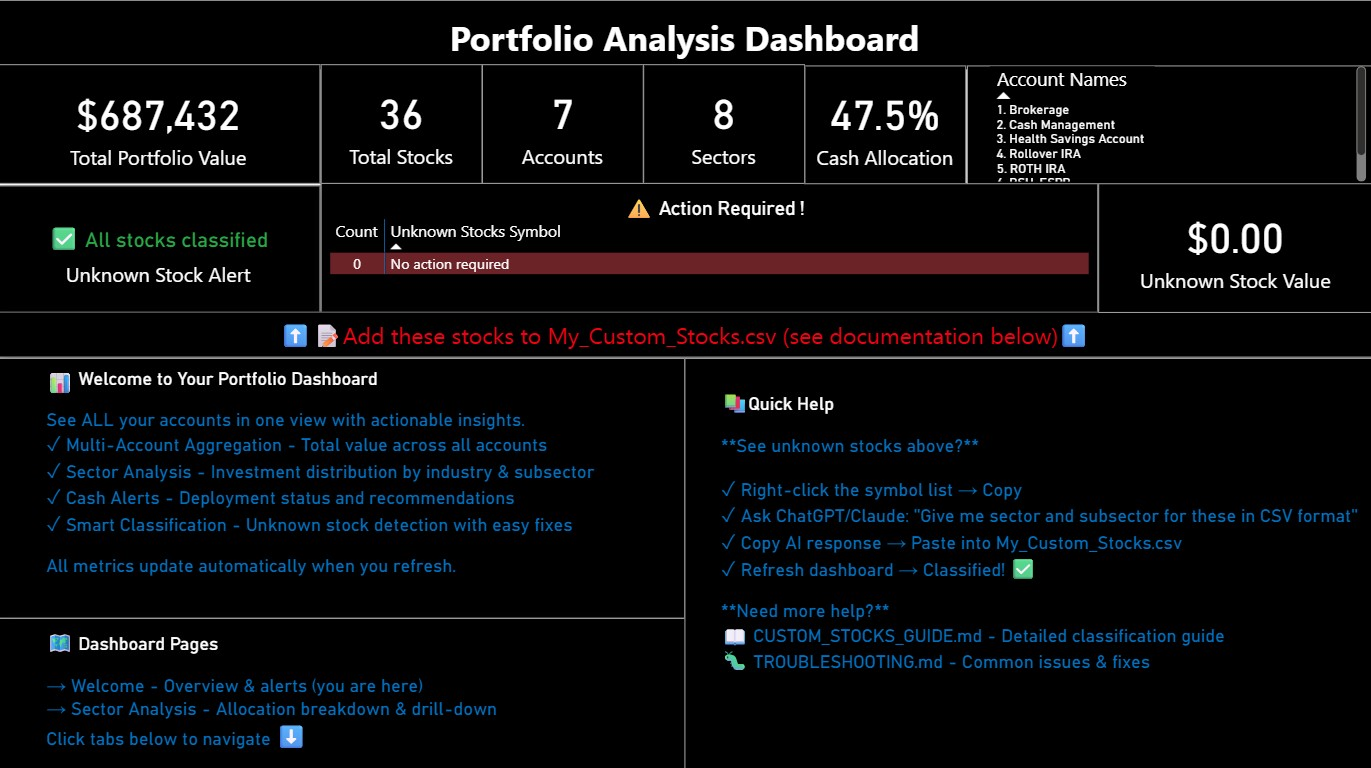

This screenshot's page, from the dashboard's own definition file:
{"tool":"powerbi","page":{"name":"Welcome","canvas":[1280,720],"ordinal":0},"visuals":[{"type":"textbox","box":[0,0,1280.5,68.5],"z":0},{"type":"card","fields":{"Values":["All_Measures_Tbl.Total_Portfolio_Value"]},"box":[0,62.2,300.7,111],"z":1000},{"type":"card","fields":{"Values":["All_Measures_Tbl.Unknown_Stocks_Alert"]},"box":[0,173.9,300.7,118.1],"z":2000},{"type":"tableEx","title":"⚠️ Action Required !","fields":{"Values":["All_Measures_Tbl.Unknown_Stocks_Count","All_Measures_Tbl.Unknown_Stocks_List"]},"box":[300.7,171.6,723.3,120.4],"z":3000},{"type":"textbox","box":[0,292,1279.8,42.5],"z":4000},{"type":"card","fields":{"Values":["All_Measures_Tbl.Number_Of_Stocks"]},"box":[300.7,62.2,150.3,111],"z":5000},{"type":"card","fields":{"Values":["All_Measures_Tbl.Number_Of_Accounts"]},"box":[451,61.8,150.3,111.5],"z":6000},{"type":"card","fields":{"Values":["All_Measures_Tbl.Number_Of_Sectors"]},"box":[601.3,61.8,150.3,111.5],"z":7000},{"type":"card","fields":{"Values":["All_Measures_Tbl.Cash_Percent"]},"box":[751.6,63,150.3,110.2],"z":8000},{"type":"card","fields":{"Values":["All_Measures_Tbl.Unknown_Stocks_Value"]},"box":[1024,171.6,255.8,120.4],"z":9000},{"type":"tableEx","title":"Account Names","fields":{"Values":["All_Measures_Tbl.Account_Names_Numbered"]},"box":[902,63,377.8,110.2],"z":10000},{"type":"textbox","box":[0,334.5,639.9,242.4],"z":11000},{"type":"textbox","box":[0,576.9,640.7,143.2],"z":12000},{"type":"textbox","box":[639.9,334.5,640.7,385.7],"z":13000}]}

Visuals, with their boxes in screenshot pixels (x1, y1, x2, y2), scaled from the page's 1280x720 canvas onto the 1371x768 screenshot:
textbox: select_region(0, 0, 1370, 73)
card - All_Measures_Tbl.Total_Portfolio_Value: select_region(0, 66, 322, 185)
card - All_Measures_Tbl.Unknown_Stocks_Alert: select_region(0, 185, 322, 311)
"⚠️ Action Required !" tableEx: select_region(322, 183, 1097, 311)
textbox: select_region(0, 311, 1370, 357)
card - All_Measures_Tbl.Number_Of_Stocks: select_region(322, 66, 483, 185)
card - All_Measures_Tbl.Number_Of_Accounts: select_region(483, 66, 644, 185)
card - All_Measures_Tbl.Number_Of_Sectors: select_region(644, 66, 805, 185)
card - All_Measures_Tbl.Cash_Percent: select_region(805, 67, 966, 185)
card - All_Measures_Tbl.Unknown_Stocks_Value: select_region(1097, 183, 1370, 311)
"Account Names" tableEx: select_region(966, 67, 1370, 185)
textbox: select_region(0, 357, 685, 615)
textbox: select_region(0, 615, 686, 767)
textbox: select_region(685, 357, 1370, 767)
